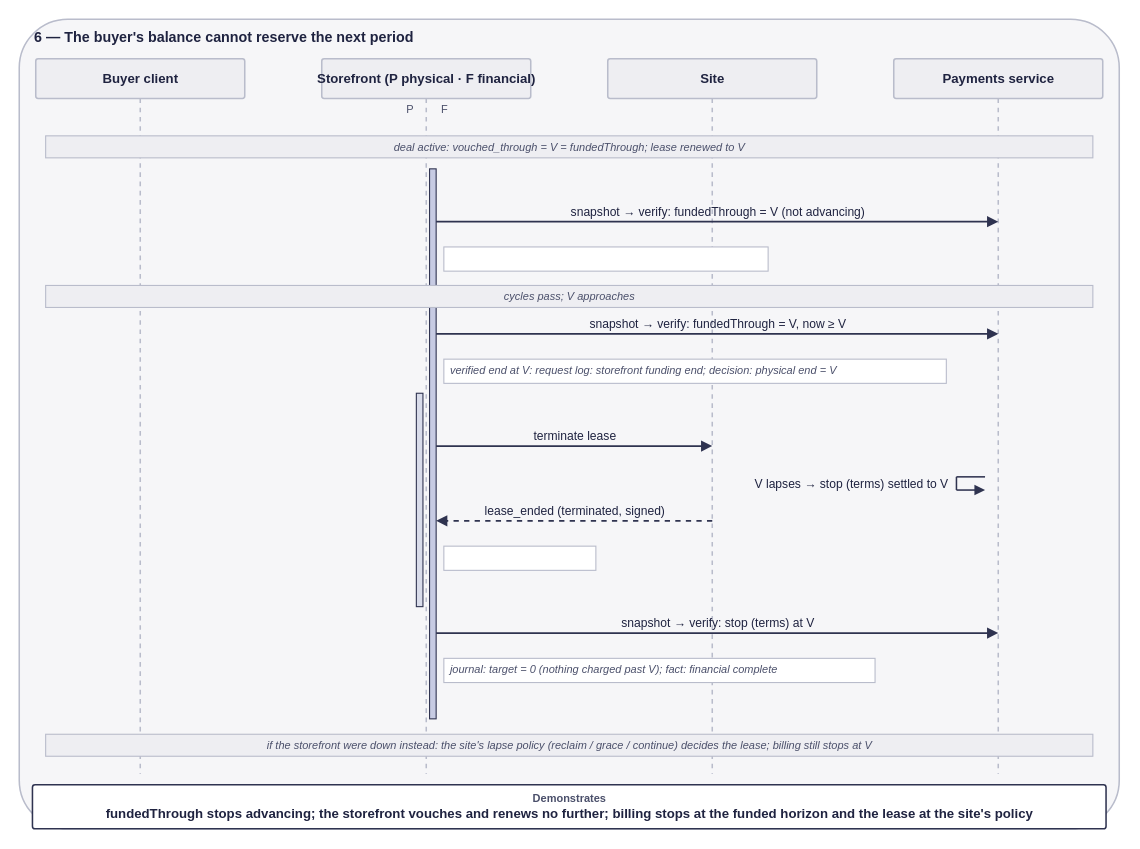
Some shapes in this 1140 by 849 pixel diagram are drawn without their labels. Each missing label, with the centre of its shape:
fact: physical complete: pixel 519 557
vouch and renew held at V (never past fundedThrough): pixel 605 258
